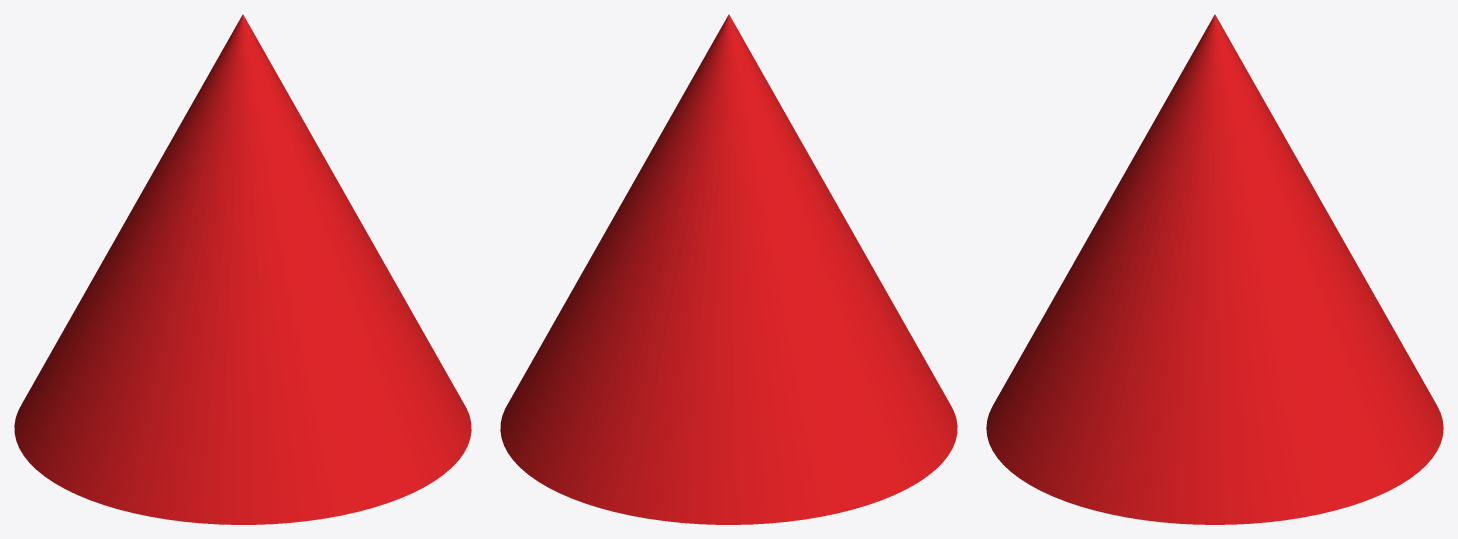
The model's file is EsserTest.fbx.
3 renders of one model, left to right at view 1: azimuth 30°, elevation 25°; view 2: azimuth 150°, elevation 25°; view 3: azimuth 270°, elevation 25°, orthographic.
Visible parts, largest first — view 1: root; view 2: root; view 3: root.
Boxes of the visible parts, x1,y1,x2,y2 form: root: (14, 14, 471, 524); root: (500, 14, 957, 524); root: (986, 14, 1443, 524).
Bounding box in the file's own units: 0.2 × 0.2 × 0.2.
1 material, 1 textured.
